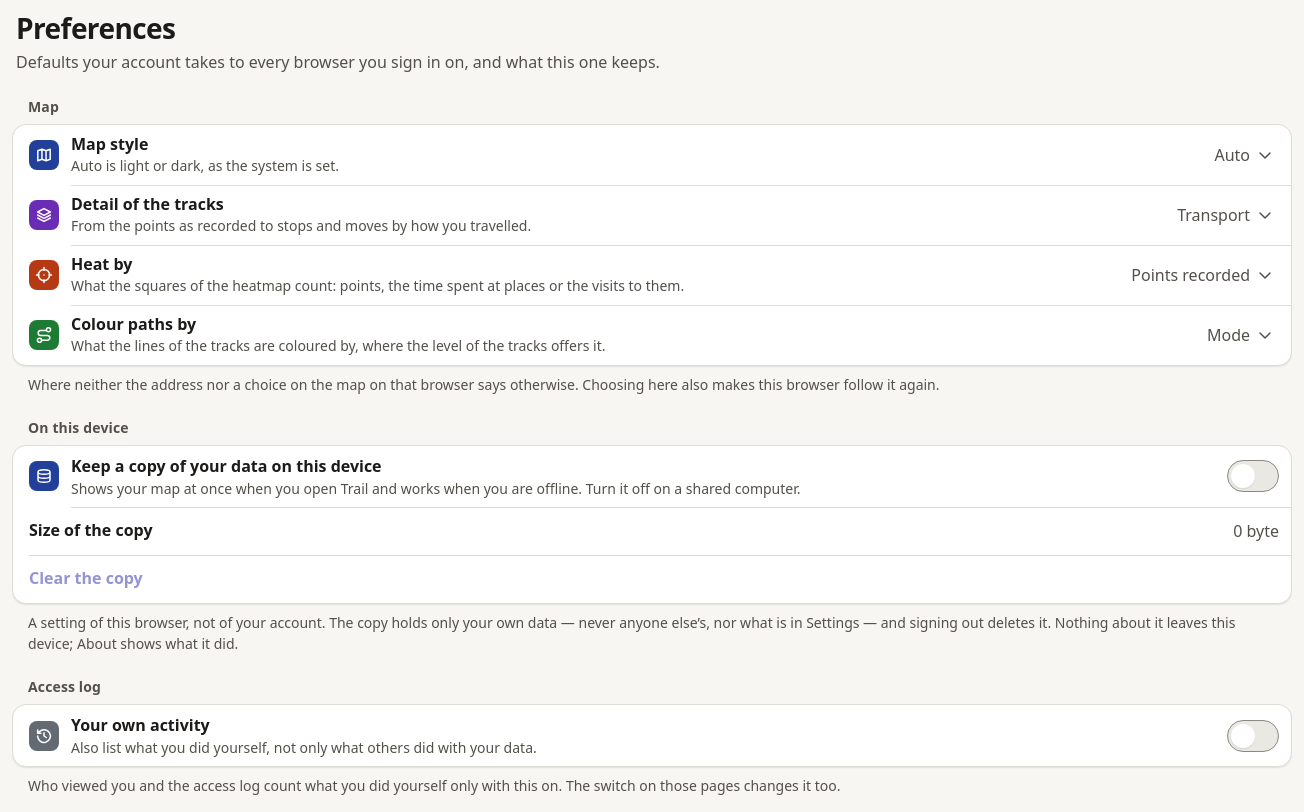
Settings › Preferences › switches the own activity of the access log
Click the switch labelled "Your own activity" at (1253, 736), box [1227, 720, 1279, 752]
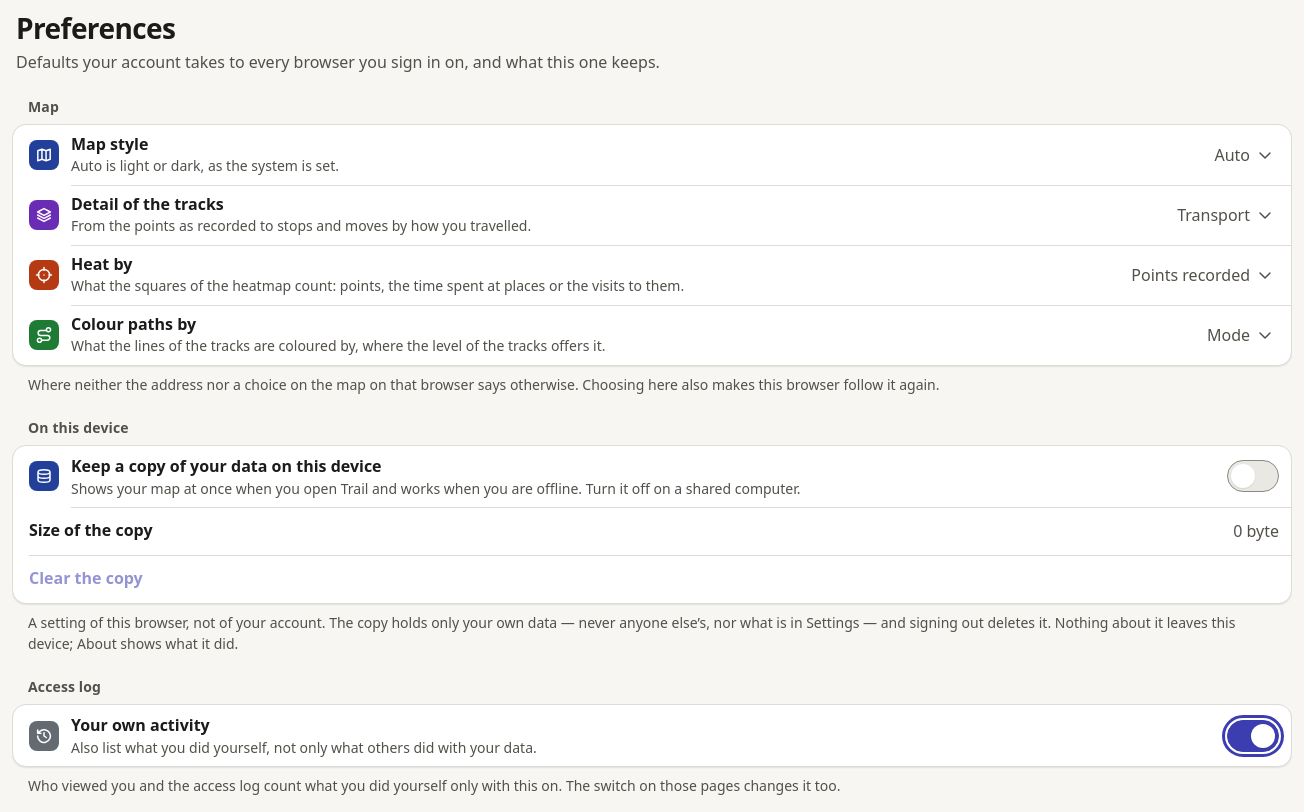
Now the switch labelled "Your own activity" is checked, box [1227, 720, 1279, 752]
